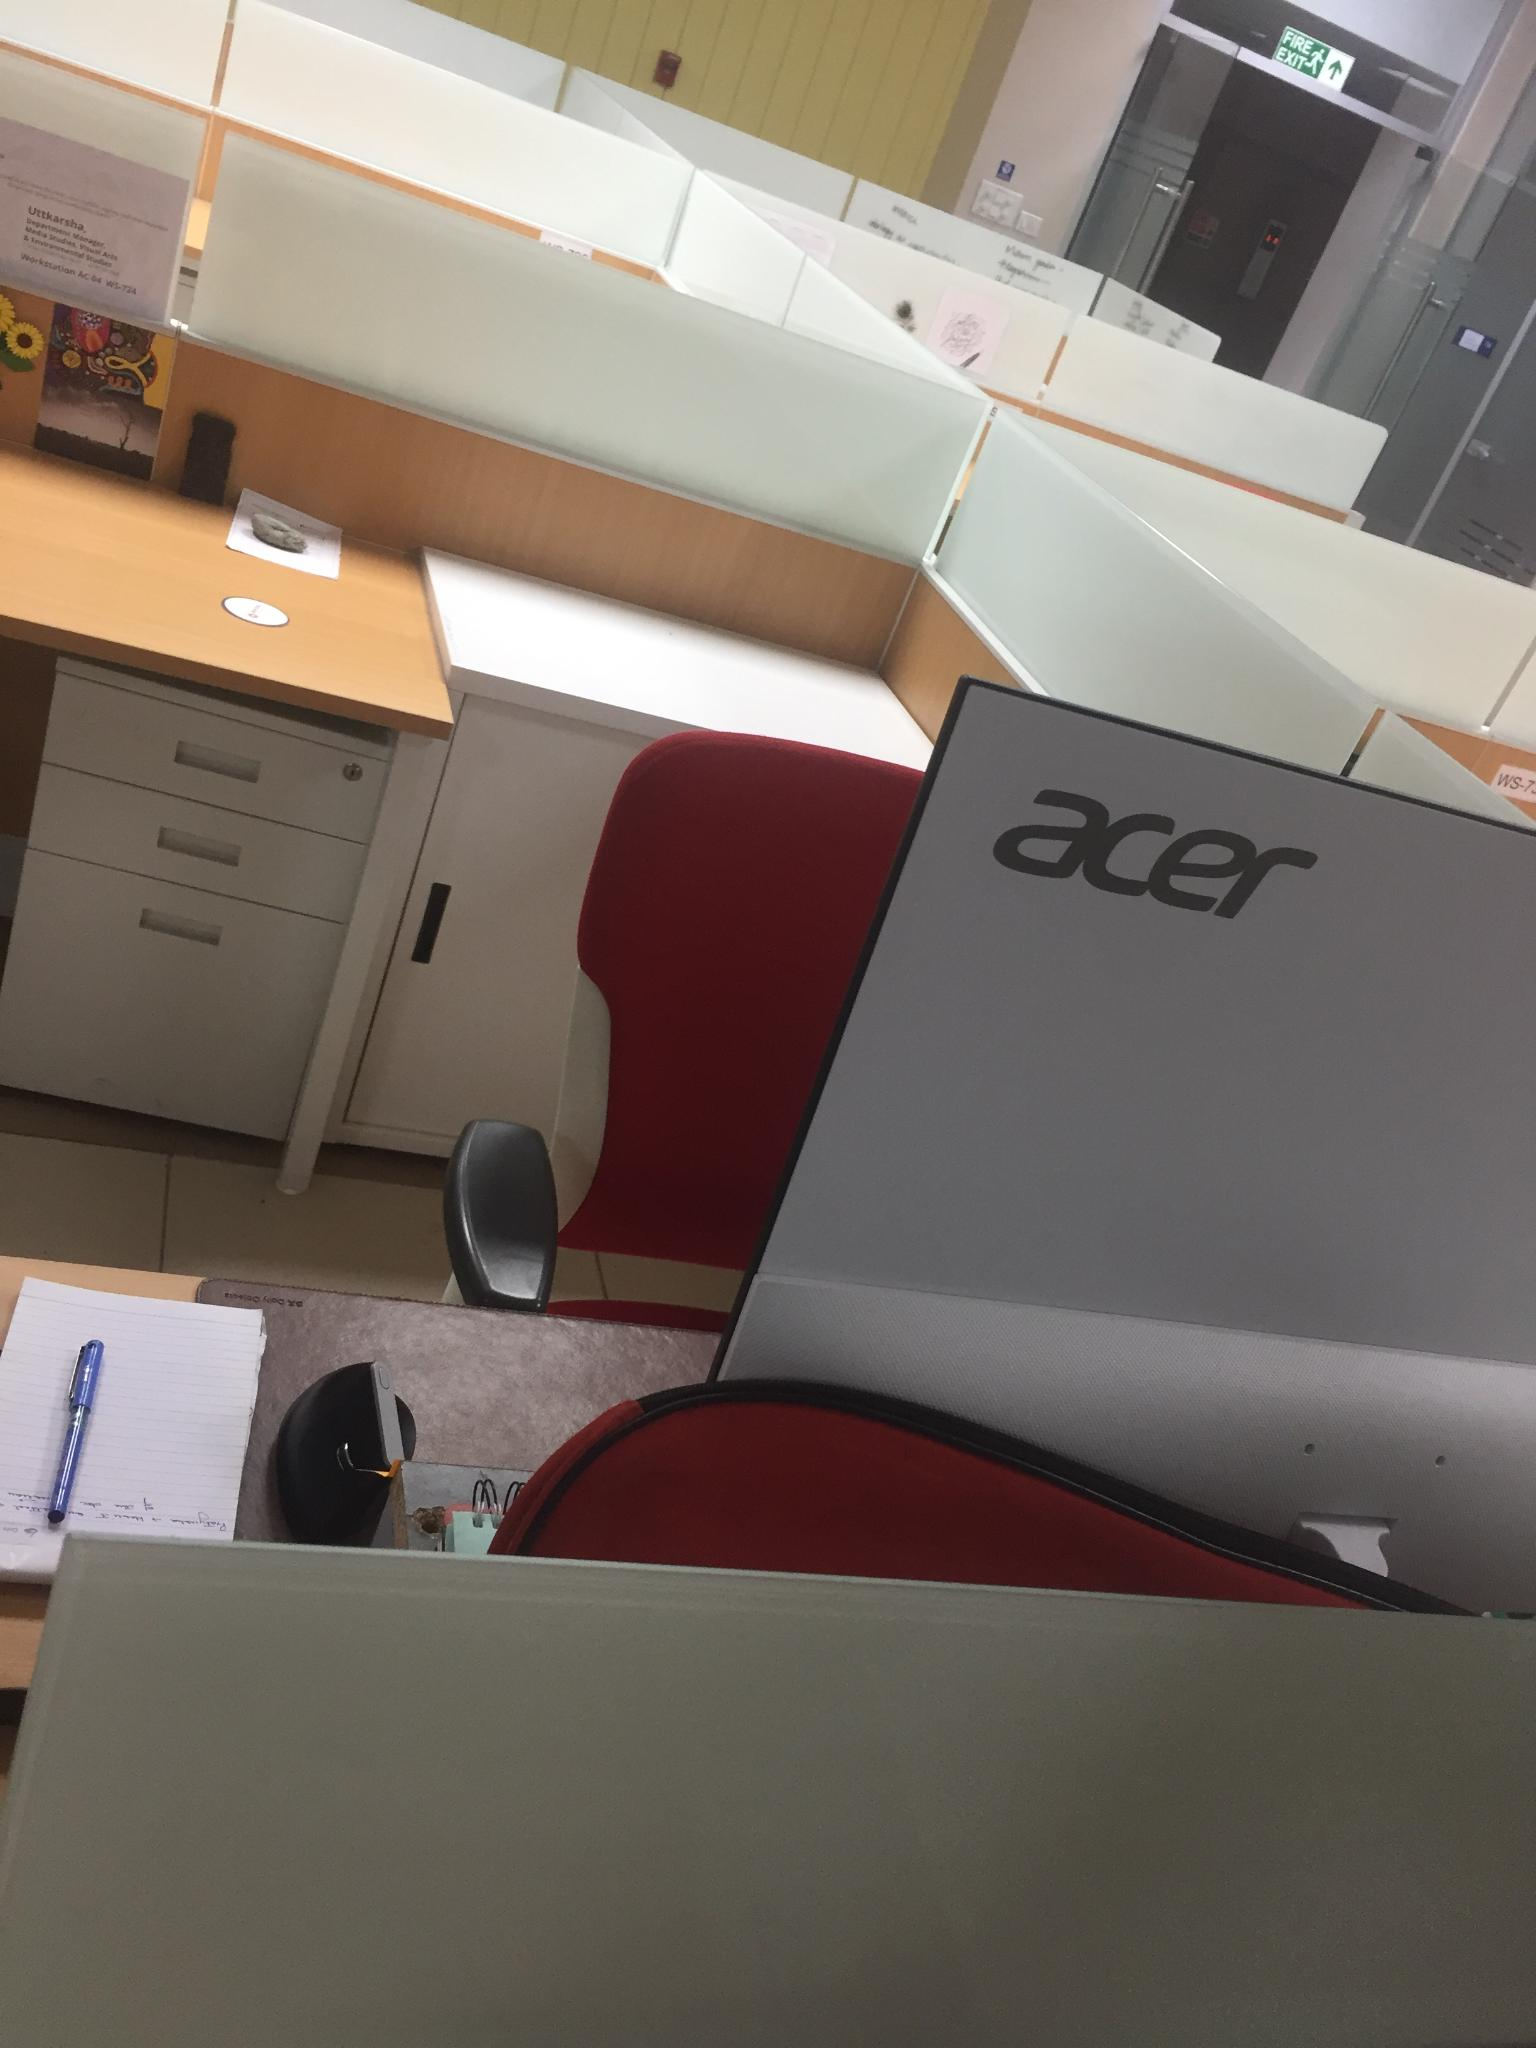chair: (423, 635, 1236, 1398)
